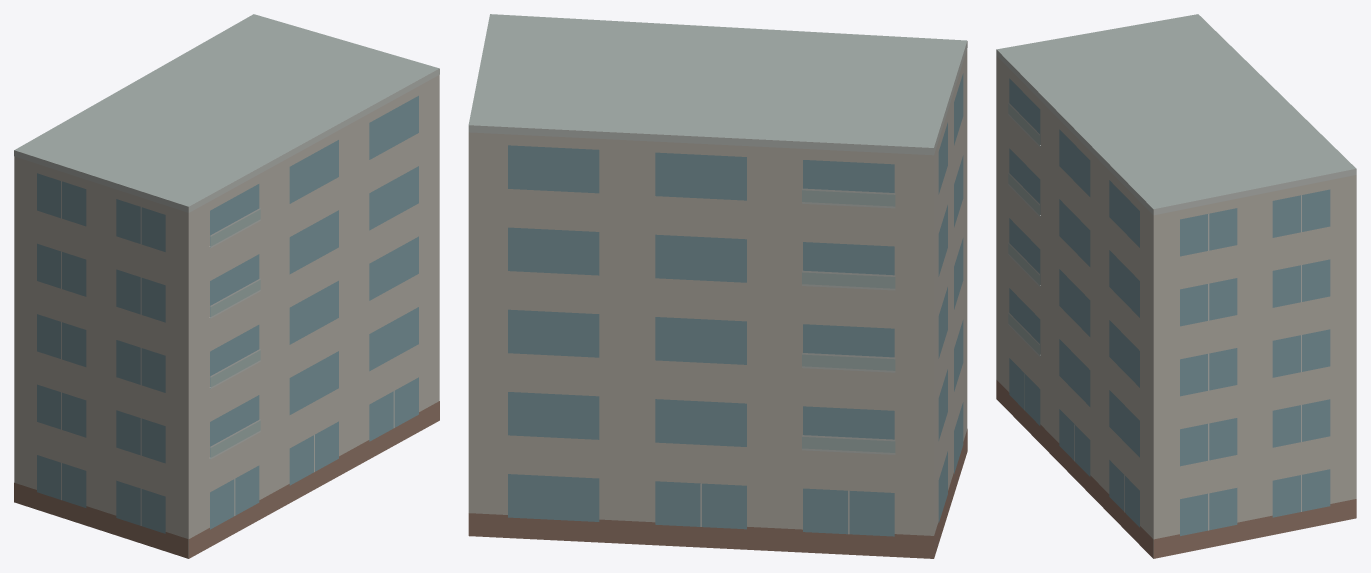
File: survey-upis-32849680.glb
The picture shows the model from 3 angles, left to right: view 1: azimuth 30°, elevation 25°; view 2: azimuth 150°, elevation 25°; view 3: azimuth 270°, elevation 25°; orthographic projection. The views are drawn at different scales.
Parts seen in each view (by area): view 1: survey-upis-32849680.tmp; view 2: survey-upis-32849680.tmp; view 3: survey-upis-32849680.tmp.
Part boxes in pixels (x1,y1,x2,y2): survey-upis-32849680.tmp: (14, 14, 439, 558); survey-upis-32849680.tmp: (468, 14, 967, 558); survey-upis-32849680.tmp: (996, 14, 1356, 558).
Bounding box in the file's own units: 16.66 × 13.9 × 12.98.
